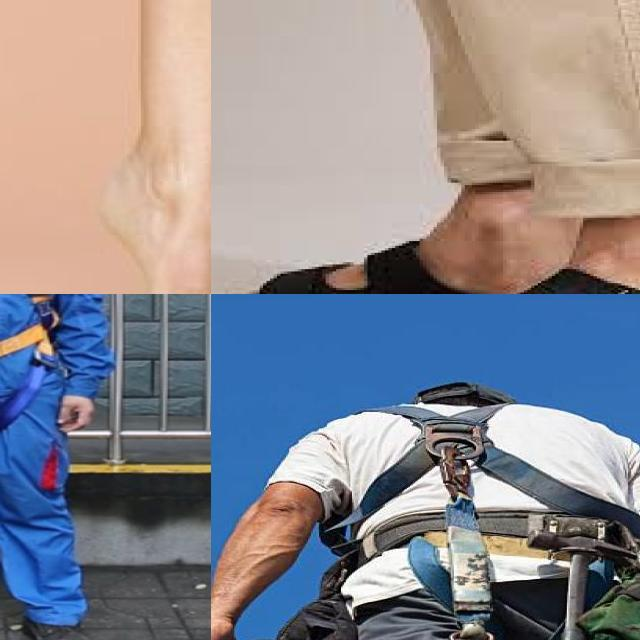Barefoots: (94, 171, 211, 294)
Harness: (351, 404, 640, 627), (0, 294, 75, 432)
Sandals: (337, 210, 640, 294)
